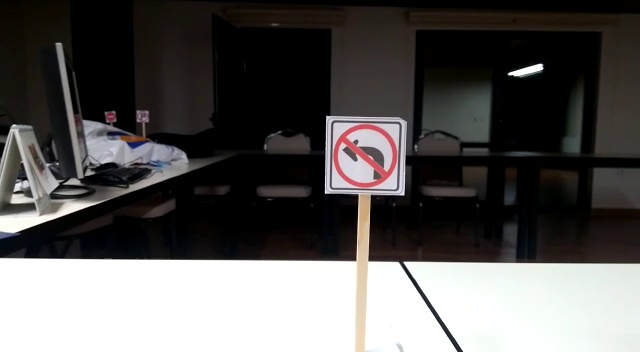sola_donulmez: (323, 116, 406, 191)
